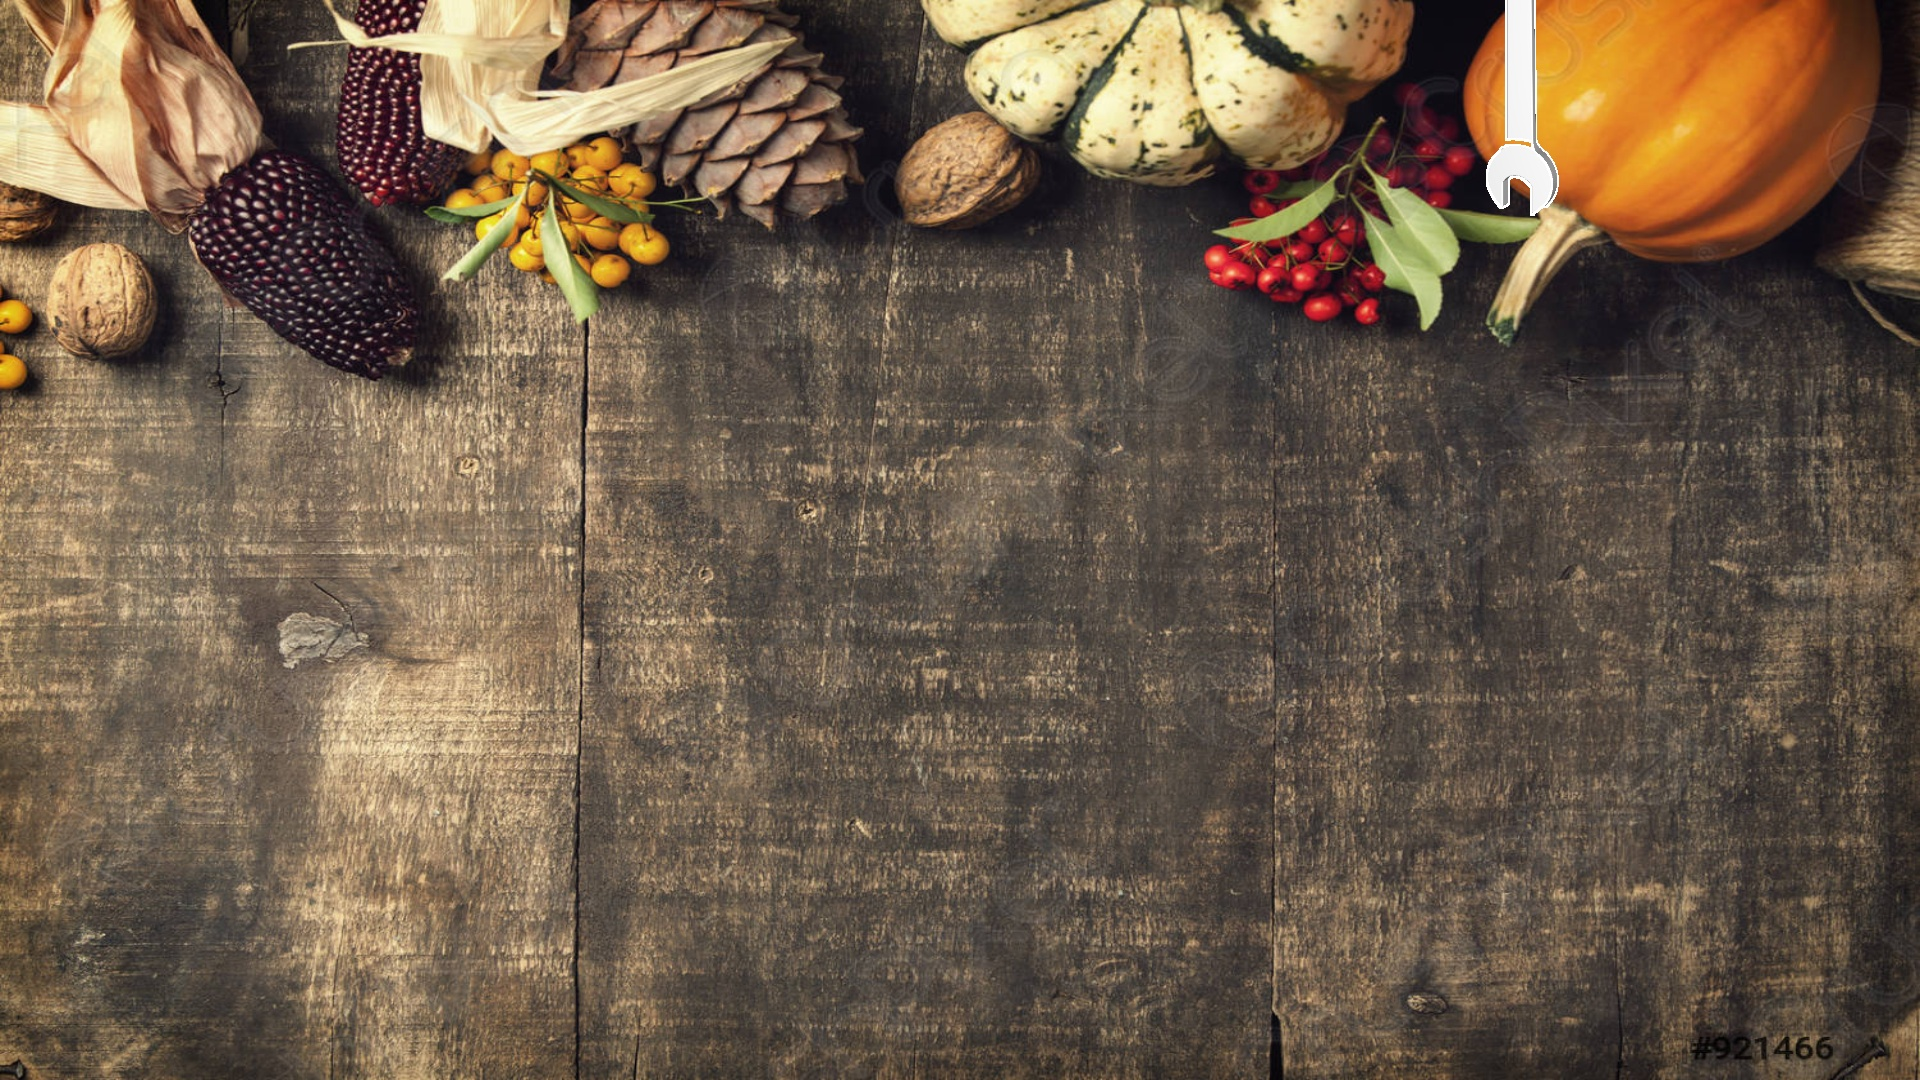Mixed Key: (1486, 0, 1557, 215)
